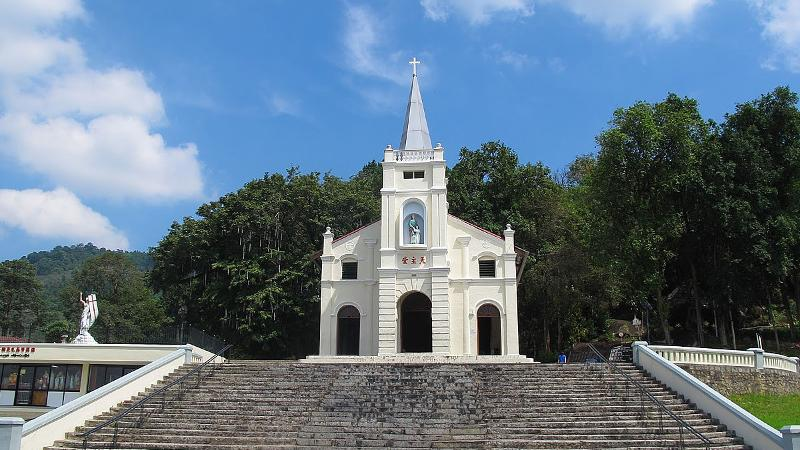Church: (323, 46, 518, 362)
